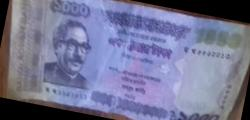1000 taka: (13, 2, 246, 118)
